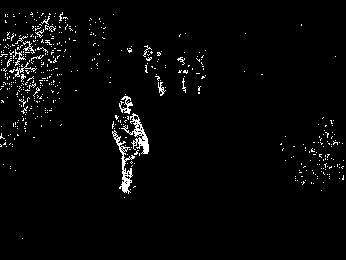person: (111, 93, 150, 195)
